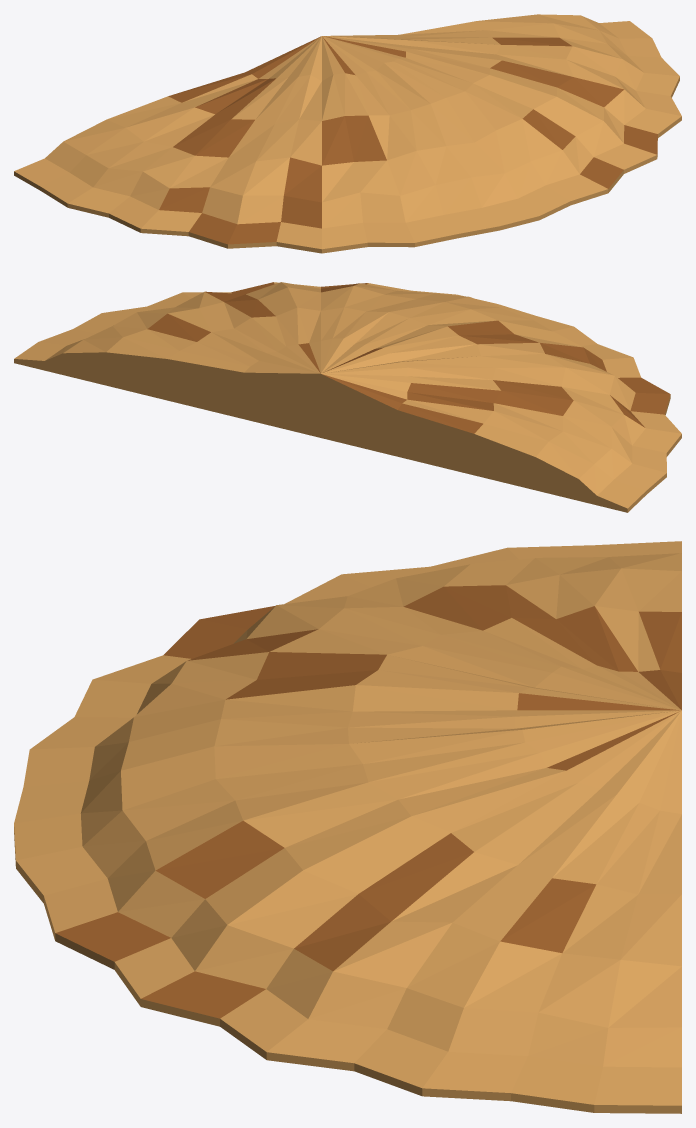
Rendered from CookedQutab.obj.
3 views of the same model, one above another, from view 1: azimuth 30°, elevation 25°; view 2: azimuth 150°, elevation 25°; view 3: azimuth 270°, elevation 25° (orthographic). The views are drawn at different scales.
Parts seen in each view (by area): view 1: CookedQutab; view 2: CookedQutab; view 3: CookedQutab.
Part boxes in pixels (<box>): CookedQutab: <box>14,14,681,253</box>; CookedQutab: <box>14,282,681,512</box>; CookedQutab: <box>14,541,681,1113</box>.
Size of the model in its own units: 0.3 by 0.03 by 0.15.
